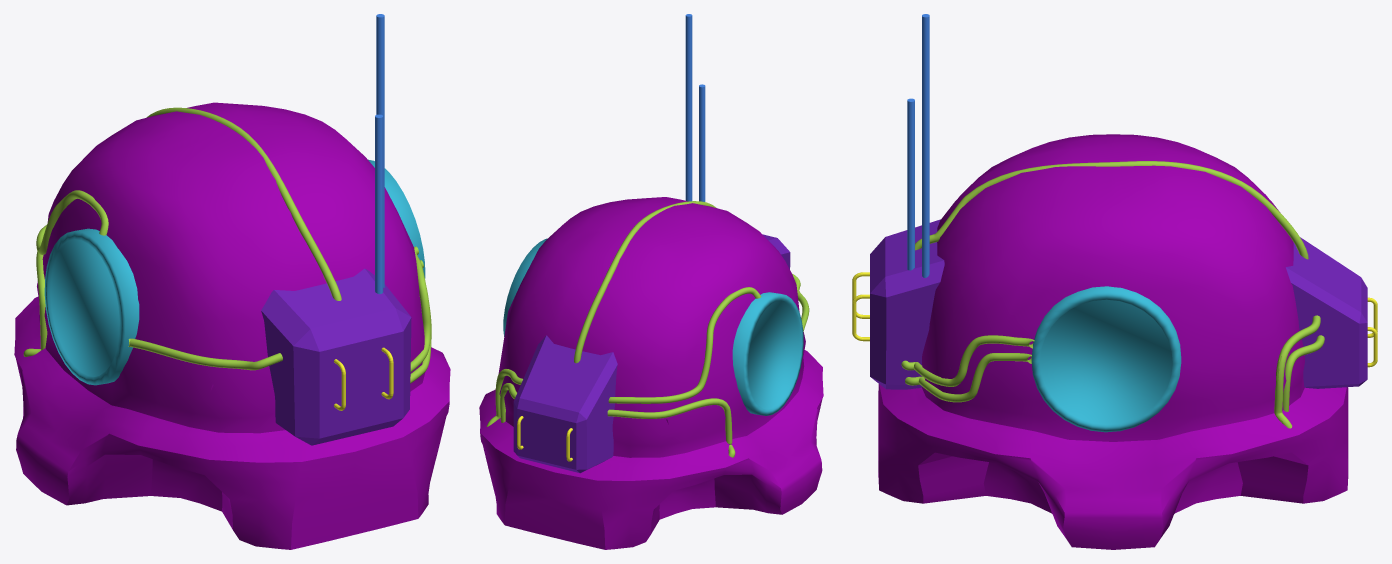
File: rover.fbx
The picture shows the model from 3 angles, left to right: view 1: azimuth 30°, elevation 25°; view 2: azimuth 150°, elevation 25°; view 3: azimuth 270°, elevation 25°; orthographic projection. The views are drawn at different scales.
Visible parts, largest first — view 1: antenas; view 2: antenas; view 3: antenas.
Part boxes in pixels (x1,y1,x2,y2): antenas: (14,14,450,549); antenas: (479,14,823,549); antenas: (852,14,1377,549).
Size of the model in its own units: 209 by 251 by 254.
